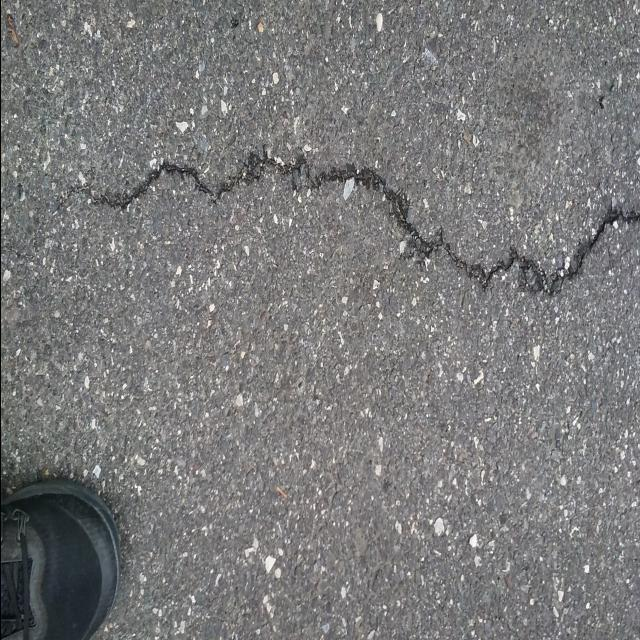Crack: (54, 137, 640, 298)
